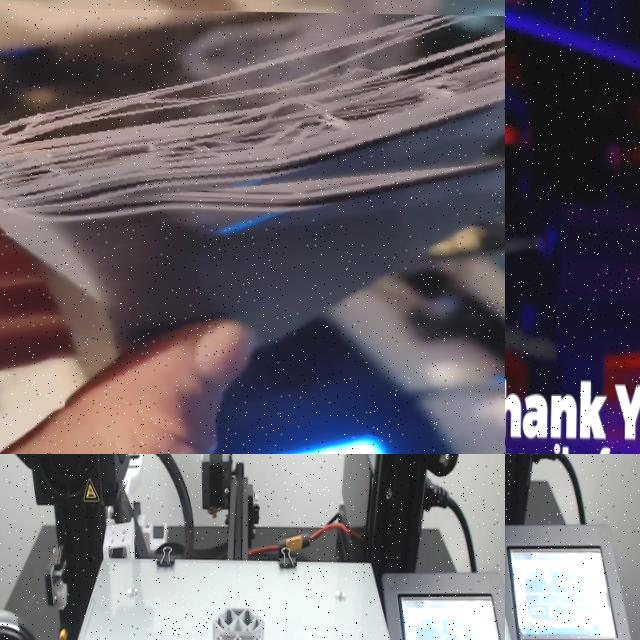spaghetti: (0, 7, 505, 223)
